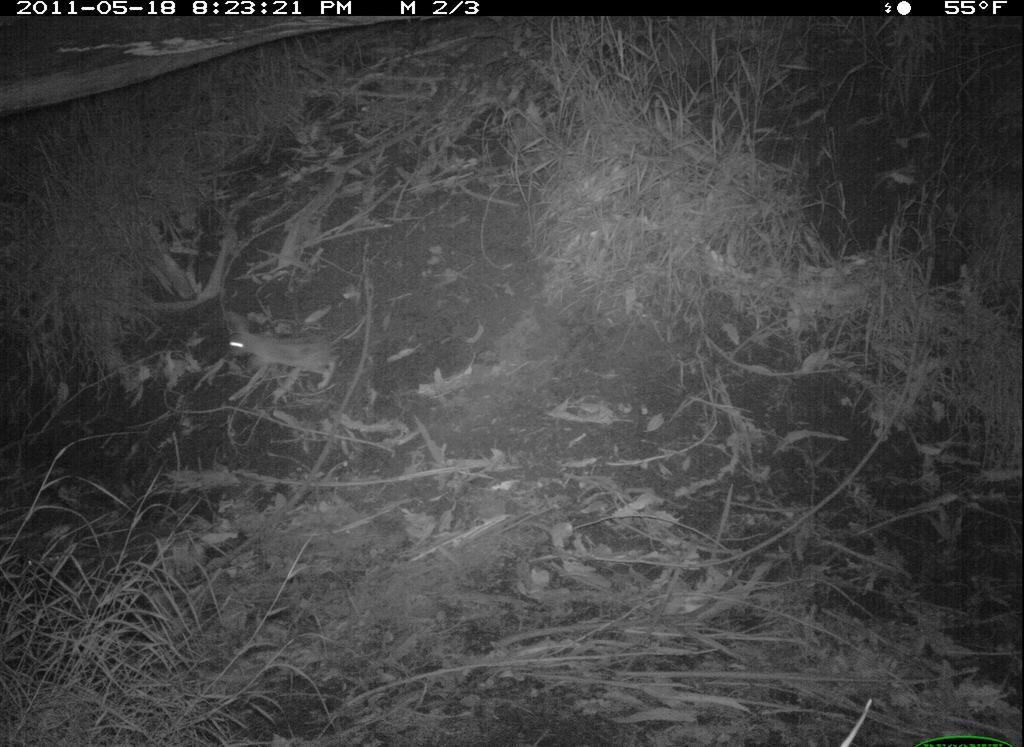rabbit: (218, 301, 354, 402)
